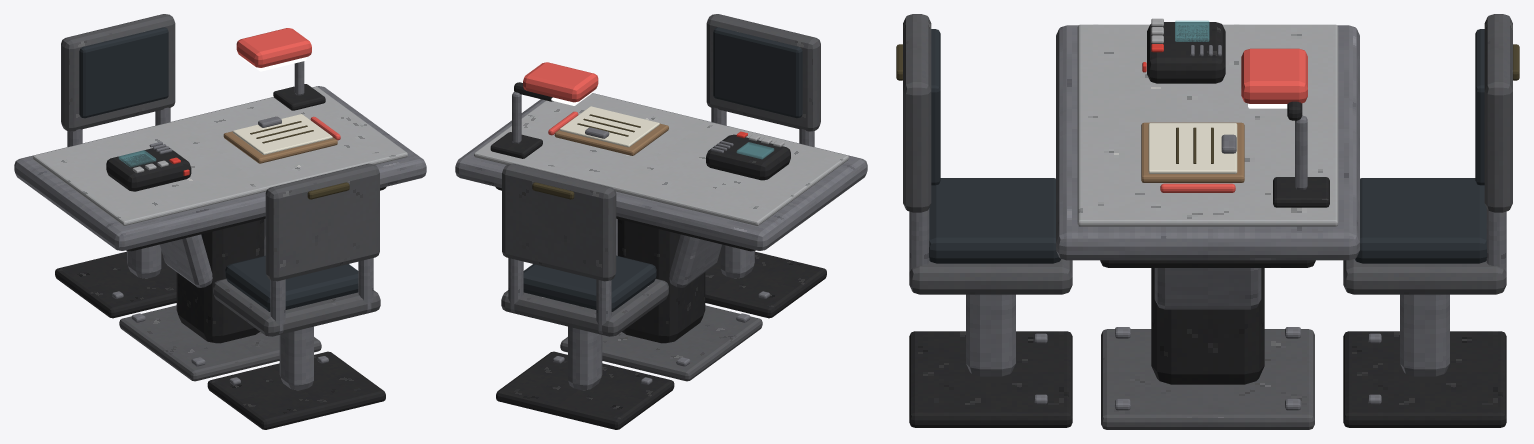
Rendered from decor_sec_interrogation_table.glb.
The picture shows the model from 3 angles, left to right: view 1: azimuth 30°, elevation 25°; view 2: azimuth 150°, elevation 25°; view 3: azimuth 270°, elevation 25°; orthographic projection. The views are drawn at different scales.
Visible parts, largest first — view 1: DEC_SecInterrogationTable__Table_Inset, DEC_SecInterrogationTable__Chair_Back_Shell_0, DEC_SecInterrogationTable__Table_Edge, DEC_SecInterrogationTable__Chair_Anchor_0, DEC_SecInterrogationTable__Chair_Back_Pad_1, DEC_SecInterrogationTable__Floor_Plate, DEC_SecInterrogationTable__Pedestal, DEC_SecInterrogationTable__Chair_Anchor_1, DEC_SecInterrogationTable__Chair_Back_Shell_1, DEC_SecInterrogationTable__Chair_Seat_Pad_0, DEC_SecInterrogationTable__Chair_Seat_Frame_0, DEC_SecInterrogationTable__Recorder_Case (+11 smaller); view 2: DEC_SecInterrogationTable__Table_Inset, DEC_SecInterrogationTable__Chair_Back_Shell_1, DEC_SecInterrogationTable__Table_Edge, DEC_SecInterrogationTable__Chair_Anchor_1, DEC_SecInterrogationTable__Chair_Back_Pad_0, DEC_SecInterrogationTable__Floor_Plate, DEC_SecInterrogationTable__Pedestal, DEC_SecInterrogationTable__Chair_Anchor_0, DEC_SecInterrogationTable__Chair_Back_Shell_0, DEC_SecInterrogationTable__Chair_Seat_Pad_1, DEC_SecInterrogationTable__Chair_Seat_Frame_1, DEC_SecInterrogationTable__Recorder_Case (+12 smaller); view 3: DEC_SecInterrogationTable__Table_Inset, DEC_SecInterrogationTable__Table_Edge, DEC_SecInterrogationTable__Floor_Plate, DEC_SecInterrogationTable__Chair_Anchor_0, DEC_SecInterrogationTable__Chair_Anchor_1, DEC_SecInterrogationTable__Chair_Seat_Pad_0, DEC_SecInterrogationTable__Chair_Seat_Pad_1, DEC_SecInterrogationTable__Pedestal, DEC_SecInterrogationTable__Chair_Back_Shell_0, DEC_SecInterrogationTable__Chair_Back_Shell_1, DEC_SecInterrogationTable__Chair_Seat_Frame_0, DEC_SecInterrogationTable__Chair_Seat_Frame_1 (+16 smaller).
Part boxes in pixels (left/top/right/bottom): DEC_SecInterrogationTable__Table_Inset: left=33, top=87, right=407, bottom=225; DEC_SecInterrogationTable__Chair_Back_Shell_0: left=265, top=163, right=379, bottom=281; DEC_SecInterrogationTable__Table_Edge: left=14, top=86, right=426, bottom=250; DEC_SecInterrogationTable__Chair_Anchor_0: left=207, top=351, right=385, bottom=429; DEC_SecInterrogationTable__Chair_Back_Pad_1: left=79, top=27, right=168, bottom=118; DEC_SecInterrogationTable__Floor_Plate: left=119, top=305, right=321, bottom=381; DEC_SecInterrogationTable__Pedestal: left=176, top=219, right=264, bottom=343; DEC_SecInterrogationTable__Chair_Anchor_1: left=55, top=250, right=176, bottom=318; DEC_SecInterrogationTable__Chair_Back_Shell_1: left=61, top=14, right=175, bottom=131; DEC_SecInterrogationTable__Chair_Seat_Pad_0: left=225, top=255, right=358, bottom=311; DEC_SecInterrogationTable__Chair_Seat_Frame_0: left=213, top=279, right=380, bottom=336; DEC_SecInterrogationTable__Recorder_Case: left=106, top=146, right=191, bottom=191; DEC_SecInterrogationTable__Table_Inset: left=474, top=93, right=848, bottom=225; DEC_SecInterrogationTable__Chair_Back_Shell_1: left=502, top=163, right=616, bottom=281; DEC_SecInterrogationTable__Table_Edge: left=455, top=93, right=867, bottom=250; DEC_SecInterrogationTable__Chair_Anchor_1: left=496, top=351, right=674, bottom=429; DEC_SecInterrogationTable__Chair_Back_Pad_0: left=713, top=27, right=802, bottom=118; DEC_SecInterrogationTable__Floor_Plate: left=560, top=305, right=762, bottom=381; DEC_SecInterrogationTable__Pedestal: left=617, top=219, right=705, bottom=343; DEC_SecInterrogationTable__Chair_Anchor_0: left=705, top=250, right=826, bottom=318; DEC_SecInterrogationTable__Chair_Back_Shell_0: left=706, top=14, right=820, bottom=131; DEC_SecInterrogationTable__Chair_Seat_Pad_1: left=523, top=255, right=656, bottom=311; DEC_SecInterrogationTable__Chair_Seat_Frame_1: left=501, top=279, right=668, bottom=336; DEC_SecInterrogationTable__Recorder_Case: left=706, top=134, right=790, bottom=180; DEC_SecInterrogationTable__Table_Inset: left=1077, top=24, right=1338, bottom=226; DEC_SecInterrogationTable__Table_Edge: left=1056, top=25, right=1359, bottom=260; DEC_SecInterrogationTable__Floor_Plate: left=1101, top=329, right=1314, bottom=429; DEC_SecInterrogationTable__Chair_Anchor_0: left=909, top=331, right=1072, bottom=427; DEC_SecInterrogationTable__Chair_Anchor_1: left=1343, top=331, right=1506, bottom=427; DEC_SecInterrogationTable__Chair_Seat_Pad_0: left=929, top=178, right=1060, bottom=263; DEC_SecInterrogationTable__Chair_Seat_Pad_1: left=1355, top=178, right=1486, bottom=263; DEC_SecInterrogationTable__Pedestal: left=1151, top=268, right=1264, bottom=384; DEC_SecInterrogationTable__Chair_Back_Shell_0: left=903, top=14, right=931, bottom=212; DEC_SecInterrogationTable__Chair_Back_Shell_1: left=1484, top=14, right=1512, bottom=212; DEC_SecInterrogationTable__Chair_Seat_Frame_0: left=909, top=259, right=1072, bottom=294; DEC_SecInterrogationTable__Chair_Seat_Frame_1: left=1343, top=259, right=1506, bottom=294.
Size of the model in its own units: 1.53 by 1.24 by 1.87.
12 materials, 4 textured.
